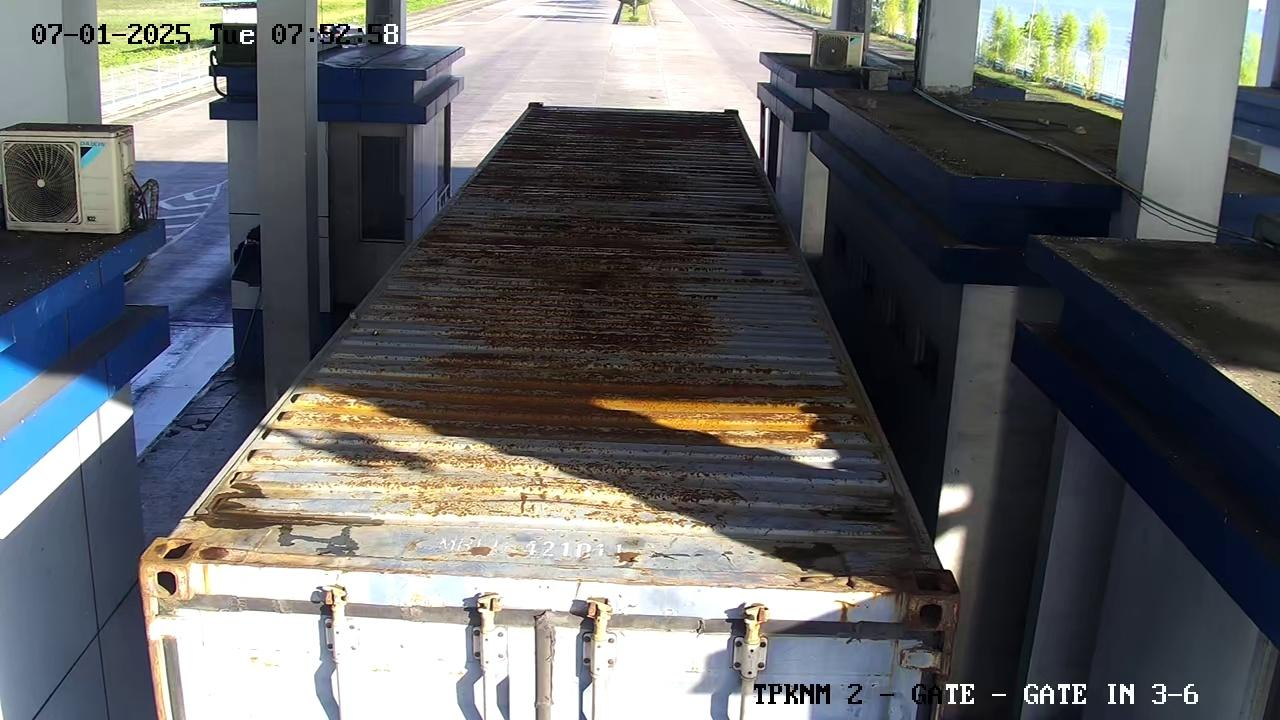Container_ID: (426, 530, 726, 583)
